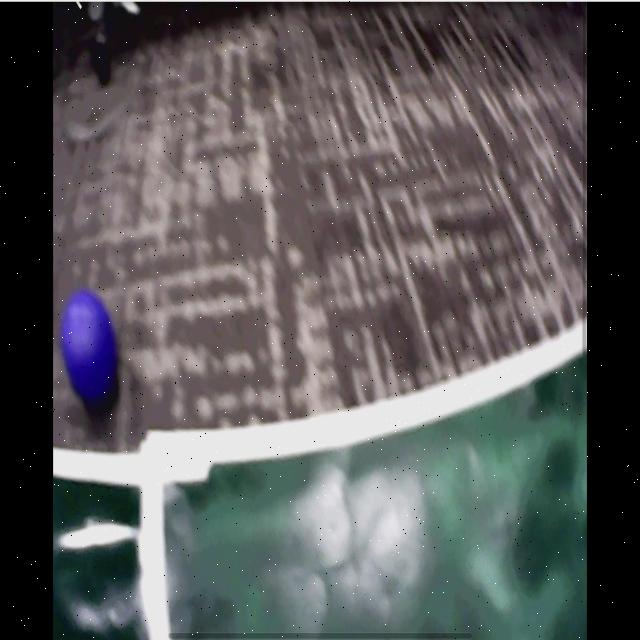ball: (63, 294, 119, 406)
